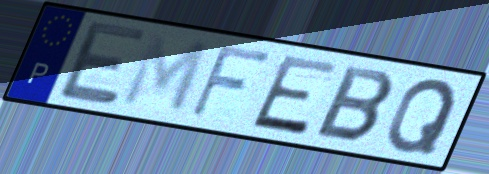B: (311, 63, 399, 145)
E: (55, 18, 152, 108), (246, 53, 342, 139)
F: (185, 42, 277, 121)
M: (117, 31, 213, 118)
Q: (383, 77, 461, 156)
